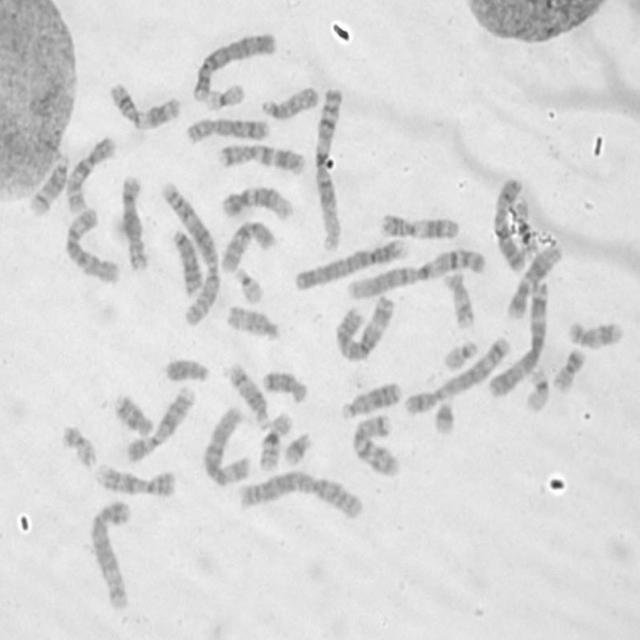A1: (344, 245, 488, 302), (310, 83, 346, 254)
A2: (160, 178, 222, 329), (234, 467, 366, 522)
A3: (486, 277, 550, 398), (332, 292, 397, 364)
B4: (291, 233, 409, 293), (188, 27, 278, 104)
B5: (401, 331, 513, 418), (85, 495, 134, 612)
C10: (63, 132, 117, 216), (217, 216, 278, 276)
C11: (105, 79, 182, 131), (377, 210, 460, 242)
C12: (504, 241, 563, 320), (218, 184, 295, 222)
C6: (62, 203, 122, 285), (200, 402, 252, 487)
C7: (349, 411, 405, 487), (215, 139, 307, 176)
C8: (118, 171, 150, 273), (182, 114, 270, 146)
C9: (123, 383, 197, 464), (91, 460, 177, 500)
D13: (338, 378, 402, 420), (170, 226, 204, 297)
D14: (224, 360, 270, 430), (25, 150, 70, 218)
D15: (258, 82, 320, 122), (224, 300, 281, 342)
E16: (255, 408, 294, 472), (510, 197, 540, 259)
E17: (440, 267, 476, 330), (565, 316, 625, 352)
E18: (111, 390, 155, 439), (259, 366, 309, 405)
F19: (522, 362, 552, 414), (202, 78, 246, 112)
F20: (59, 421, 98, 469), (550, 346, 587, 394)
G21: (282, 428, 314, 466), (430, 394, 457, 436)
G22: (440, 336, 479, 373), (232, 263, 266, 304)
X: (491, 173, 526, 274)
Y: (162, 354, 211, 386)
